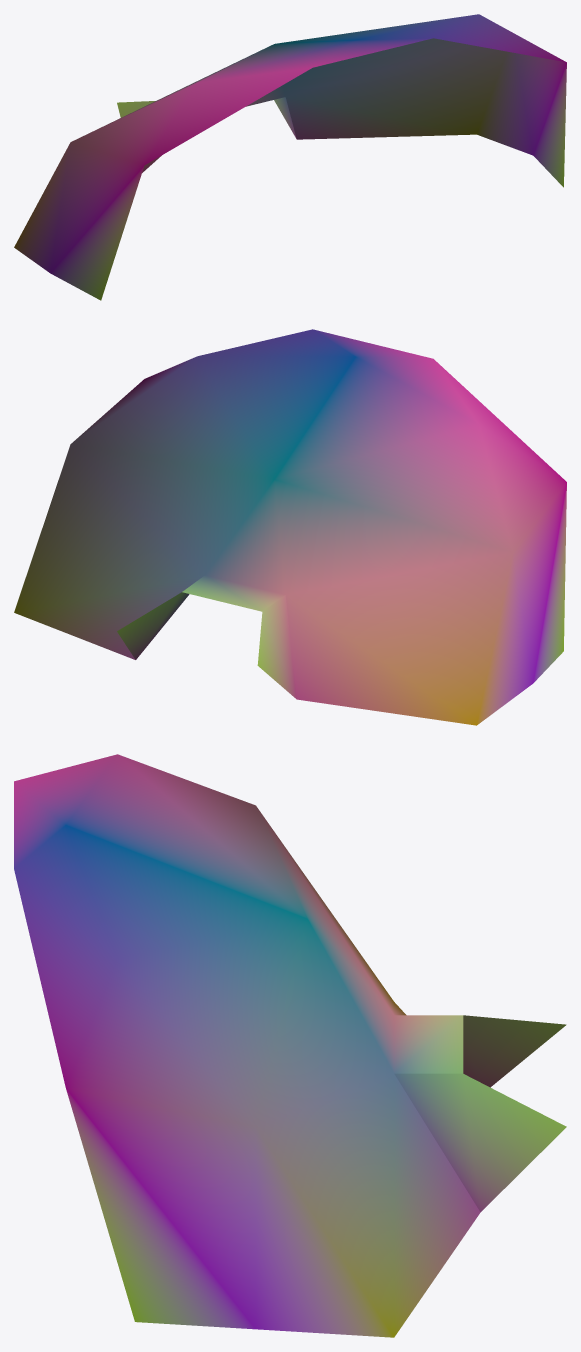
3 views of the same model, one above another, from view 1: azimuth 30°, elevation 25°; view 2: azimuth 150°, elevation 25°; view 3: azimuth 270°, elevation 25° (orthographic). The views are drawn at different scales.
Visible parts, largest first — view 1: part; view 2: part; view 3: part.
Boxes of the visible parts, left/top/right/bottom form: part: left=14, top=14, right=566, bottom=300; part: left=14, top=329, right=566, bottom=725; part: left=14, top=754, right=566, bottom=1337.
Bounding box in the file's own units: 48 × 22 × 32.
